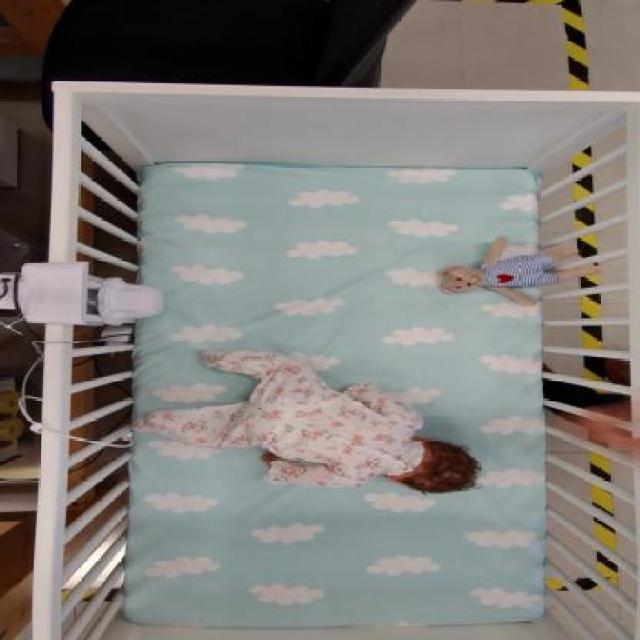baby: (122, 348, 482, 496)
